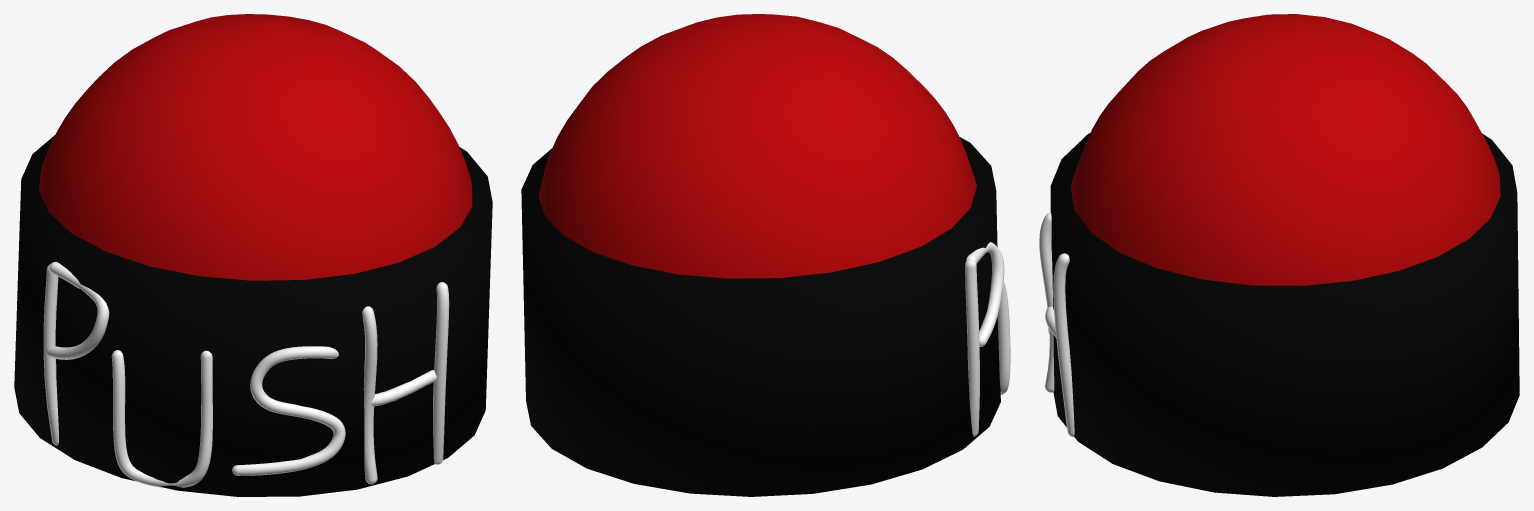
File: button.fbx
3 views of the same model, side by side, from view 1: azimuth 30°, elevation 25°; view 2: azimuth 150°, elevation 25°; view 3: azimuth 270°, elevation 25° (orthographic).
Parts seen in each view (by area): view 1: p.0008, p.0011, s.0023, s.0020, s.0029, s.0027, s.0018, s.0019, s.0028; view 2: p.0008, p.0011, s.0018, s.0019, s.0020; view 3: p.0008, p.0011, s.0029, s.0027.
Boxes of the visible parts, x1=… form: p.0008: x1=14, y1=135, x2=492, y2=496; p.0011: x1=39, y1=14, x2=472, y2=280; s.0023: x1=232, y1=346, x2=345, y2=475; s.0020: x1=111, y1=350, x2=212, y2=487; s.0029: x1=433, y1=282, x2=449, y2=464; s.0027: x1=362, y1=306, x2=377, y2=484; s.0018: x1=43, y1=264, x2=58, y2=445; s.0019: x1=46, y1=261, x2=109, y2=359; s.0028: x1=370, y1=370, x2=436, y2=406; p.0008: x1=521, y1=137, x2=1000, y2=496; p.0011: x1=538, y1=14, x2=976, y2=278; s.0018: x1=965, y1=261, x2=979, y2=436; s.0019: x1=966, y1=242, x2=1004, y2=346; s.0020: x1=997, y1=281, x2=1010, y2=394; p.0008: x1=1050, y1=133, x2=1519, y2=496; p.0011: x1=1070, y1=14, x2=1500, y2=285; s.0029: x1=1053, y1=253, x2=1074, y2=436; s.0027: x1=1039, y1=213, x2=1054, y2=392.
Size of the model in its own units: 52.16 by 51.97 by 47.5.
